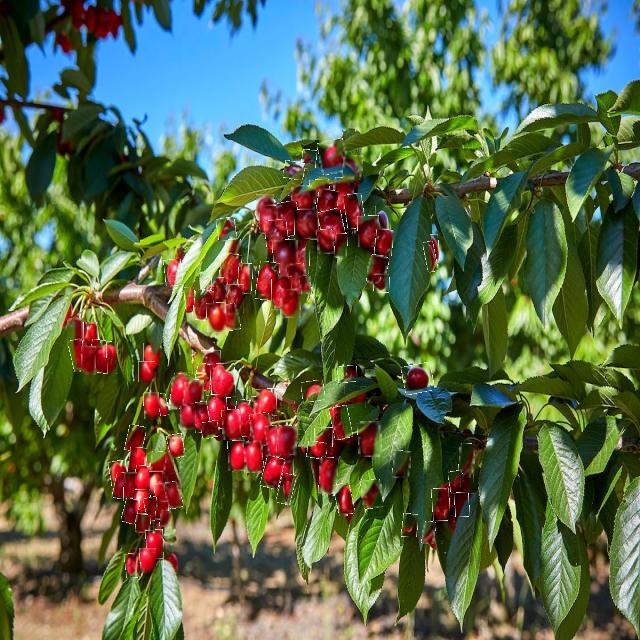cherry: (319, 140, 347, 174), (402, 364, 433, 394), (256, 262, 280, 300), (275, 201, 300, 237), (274, 240, 298, 277), (318, 209, 344, 243), (358, 421, 382, 457), (89, 340, 113, 374), (211, 364, 235, 398), (333, 178, 354, 215), (233, 400, 254, 436), (219, 254, 241, 287), (330, 406, 352, 439), (262, 456, 284, 489), (295, 210, 319, 240), (344, 194, 365, 228), (250, 414, 272, 446), (319, 458, 338, 494), (272, 276, 292, 310), (208, 395, 228, 429), (292, 185, 316, 213), (316, 190, 338, 220), (358, 216, 379, 247), (265, 220, 288, 248), (277, 426, 297, 458), (334, 484, 354, 516), (193, 290, 214, 320), (228, 441, 249, 471), (171, 374, 189, 408), (280, 289, 301, 318), (244, 441, 263, 473), (431, 489, 450, 521), (184, 380, 204, 410), (69, 339, 87, 372), (361, 480, 382, 508), (368, 255, 388, 284), (294, 238, 310, 274), (192, 401, 210, 433), (287, 264, 306, 294), (222, 410, 241, 440), (207, 303, 226, 332), (145, 530, 164, 559), (266, 426, 283, 458), (210, 278, 228, 308), (201, 350, 221, 377), (257, 389, 277, 416), (277, 474, 295, 504), (126, 425, 145, 453), (301, 380, 325, 402), (226, 284, 244, 313), (459, 444, 475, 476), (260, 206, 278, 234), (68, 318, 86, 346), (374, 230, 393, 256), (164, 260, 183, 286), (128, 448, 147, 474), (109, 460, 128, 486), (393, 451, 411, 478), (344, 386, 366, 408), (343, 156, 363, 180), (217, 217, 237, 241), (132, 489, 151, 514), (222, 304, 240, 330), (195, 364, 213, 390), (256, 194, 274, 219), (143, 343, 160, 369), (134, 466, 151, 492), (81, 346, 96, 375), (139, 548, 156, 573), (238, 264, 252, 294), (310, 180, 329, 202), (375, 206, 391, 232), (166, 482, 182, 508), (123, 498, 139, 524), (317, 230, 334, 254), (124, 554, 141, 578), (144, 392, 159, 419), (167, 434, 184, 457), (401, 514, 418, 537), (83, 322, 98, 348), (454, 493, 470, 517), (284, 161, 304, 180), (315, 427, 333, 448), (124, 472, 137, 501), (155, 483, 171, 506), (280, 454, 294, 480), (114, 473, 128, 499), (425, 242, 437, 272), (180, 406, 195, 430), (144, 496, 159, 520), (138, 361, 155, 382), (107, 342, 118, 374), (449, 471, 465, 493), (149, 471, 163, 496), (307, 441, 326, 459), (163, 552, 178, 574), (151, 452, 165, 474), (338, 366, 357, 382), (335, 234, 347, 258), (374, 275, 390, 293), (184, 287, 196, 311), (202, 422, 220, 438), (161, 452, 174, 474), (422, 522, 435, 544), (302, 150, 317, 169), (462, 474, 476, 494), (226, 240, 241, 258), (136, 515, 150, 533), (157, 394, 168, 416), (431, 234, 439, 263), (249, 397, 261, 416), (156, 502, 168, 520), (300, 276, 311, 294), (160, 511, 171, 527)
